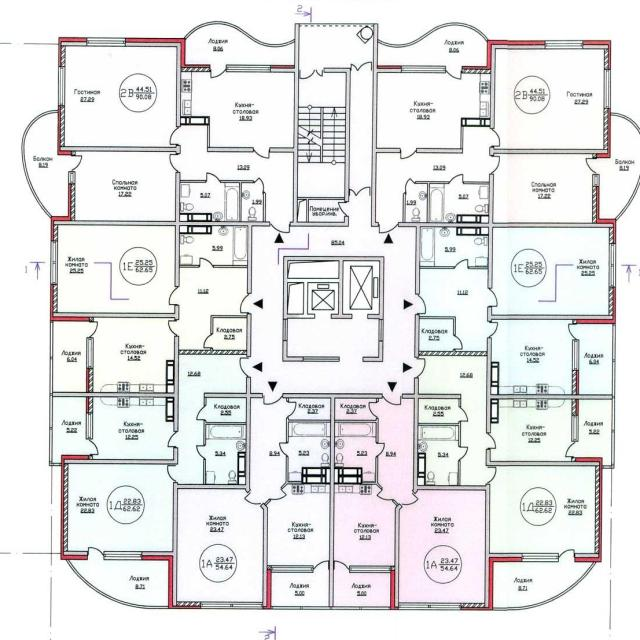Bathrooms: (421, 228, 488, 267), (180, 226, 247, 265), (289, 423, 329, 482), (336, 423, 375, 482), (430, 184, 489, 222), (207, 425, 245, 484), (419, 427, 458, 484), (181, 183, 239, 221), (242, 184, 263, 221), (406, 184, 426, 221)
Corridors: (251, 200, 416, 394), (376, 127, 488, 222), (181, 126, 293, 221), (420, 356, 487, 485), (179, 355, 246, 483), (179, 268, 246, 350), (420, 270, 487, 351), (25, 113, 69, 216), (71, 560, 168, 605), (378, 26, 487, 66), (186, 25, 294, 65), (494, 562, 592, 606), (600, 116, 640, 219), (251, 398, 286, 502), (379, 400, 413, 504), (300, 24, 373, 67), (350, 72, 371, 191), (54, 321, 86, 392), (580, 324, 612, 393), (52, 397, 85, 463), (579, 400, 612, 464), (272, 573, 329, 606), (333, 574, 390, 605), (213, 318, 246, 350), (420, 319, 453, 351), (419, 399, 458, 423), (289, 399, 330, 420), (208, 399, 245, 421), (336, 399, 376, 419), (309, 200, 344, 221)
Doors: (348, 186, 371, 201), (399, 490, 420, 506), (243, 490, 263, 506), (444, 63, 461, 81), (299, 68, 324, 80), (268, 486, 288, 501), (378, 221, 399, 235), (583, 157, 600, 174), (351, 59, 373, 72), (489, 153, 502, 175), (85, 319, 100, 338), (563, 441, 577, 461), (484, 465, 498, 485), (413, 294, 426, 315), (566, 322, 582, 339), (398, 147, 417, 161), (166, 464, 180, 483), (489, 128, 502, 148), (374, 488, 394, 501), (382, 392, 402, 405), (333, 559, 349, 575), (86, 546, 103, 561), (67, 154, 82, 171), (209, 64, 226, 79), (269, 221, 290, 233), (239, 357, 251, 378), (263, 392, 282, 405), (170, 126, 181, 148), (487, 288, 499, 308), (314, 560, 329, 576), (286, 401, 298, 421), (558, 548, 575, 562), (166, 430, 179, 448), (168, 288, 181, 306), (367, 399, 378, 420), (486, 321, 498, 340), (458, 404, 470, 423), (84, 439, 98, 455), (252, 146, 269, 159), (404, 177, 416, 195), (484, 432, 496, 450), (458, 446, 470, 464), (240, 294, 251, 313), (414, 359, 425, 378), (453, 257, 470, 269), (166, 320, 178, 337), (452, 335, 464, 352), (170, 153, 180, 173), (374, 442, 386, 458), (449, 173, 466, 184), (196, 405, 207, 422), (195, 444, 206, 460), (206, 172, 222, 183), (254, 176, 265, 192), (278, 441, 288, 458), (338, 201, 348, 217), (204, 333, 214, 348), (199, 257, 214, 267), (339, 356, 363, 362), (351, 314, 368, 319), (315, 314, 331, 319)
LBwalls: (461, 552, 523, 612), (61, 454, 93, 561), (142, 551, 201, 609), (574, 457, 603, 564), (126, 37, 211, 72), (461, 40, 545, 75), (50, 284, 94, 322), (573, 287, 617, 325), (50, 184, 76, 242), (592, 186, 616, 243), (592, 108, 611, 159), (584, 39, 612, 71), (58, 37, 86, 66), (57, 105, 72, 157), (390, 565, 399, 611), (262, 564, 271, 609), (86, 369, 94, 413), (572, 370, 579, 415), (271, 64, 295, 72), (377, 66, 402, 73)
Offices: (67, 47, 176, 147), (496, 49, 603, 148), (59, 225, 174, 312), (494, 229, 608, 315), (400, 491, 485, 602), (178, 490, 263, 601), (490, 467, 595, 552), (70, 465, 173, 551), (377, 73, 490, 148), (182, 72, 294, 147), (76, 152, 175, 221), (495, 154, 592, 223), (95, 318, 174, 393), (492, 320, 572, 394), (267, 484, 330, 565), (334, 485, 397, 565), (95, 397, 173, 459), (493, 400, 572, 460)
Stairs: (298, 73, 345, 197)
Walls: (75, 172, 271, 294), (398, 173, 592, 294), (283, 393, 383, 606), (414, 313, 572, 434), (94, 313, 252, 432), (269, 23, 350, 228), (173, 376, 263, 552), (403, 378, 490, 552), (283, 256, 384, 320), (416, 74, 495, 153), (177, 72, 254, 153), (371, 23, 401, 227), (65, 560, 168, 610), (493, 562, 597, 611), (21, 108, 58, 219), (184, 20, 294, 49), (378, 21, 489, 49), (280, 456, 331, 491), (334, 456, 384, 490), (485, 449, 576, 466), (93, 447, 178, 465), (487, 306, 573, 323), (94, 305, 180, 320), (286, 416, 331, 444), (336, 416, 379, 444), (489, 145, 594, 156), (615, 175, 640, 220), (75, 144, 181, 154), (392, 499, 403, 565), (261, 498, 271, 564), (612, 112, 640, 133), (271, 606, 390, 610), (362, 342, 384, 363), (282, 340, 303, 361), (49, 320, 52, 466), (612, 324, 615, 464), (580, 394, 612, 400), (53, 393, 85, 396), (602, 465, 614, 469), (204, 460, 206, 484), (51, 463, 61, 466)
Windows: (200, 601, 263, 609), (399, 602, 461, 610), (226, 64, 271, 73), (86, 37, 126, 47), (402, 65, 446, 73), (545, 40, 584, 49), (103, 551, 142, 560), (272, 565, 314, 573), (523, 553, 560, 562), (609, 243, 616, 287), (50, 242, 57, 284), (349, 566, 390, 573), (604, 69, 611, 109), (58, 66, 65, 106), (572, 339, 580, 371), (86, 337, 93, 369), (303, 357, 340, 362), (86, 413, 93, 439), (572, 415, 578, 442), (378, 319, 384, 342), (283, 318, 288, 342), (68, 171, 76, 184), (592, 174, 600, 187)
